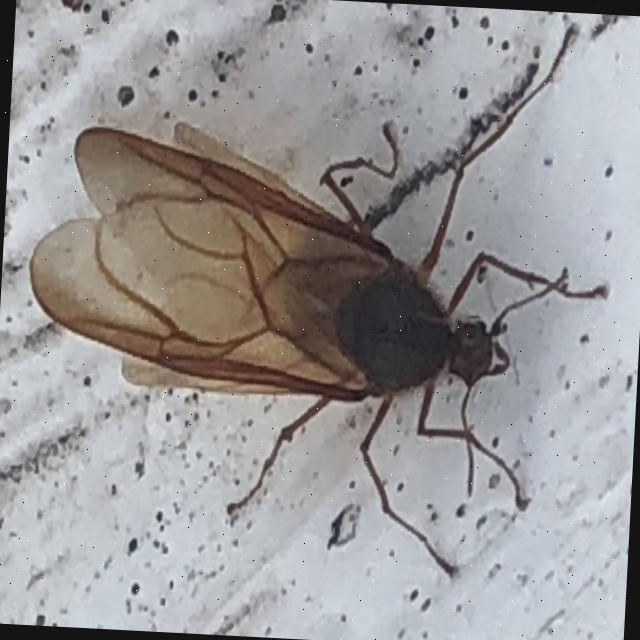Alive-Male-Alate: (14, 0, 622, 589)
